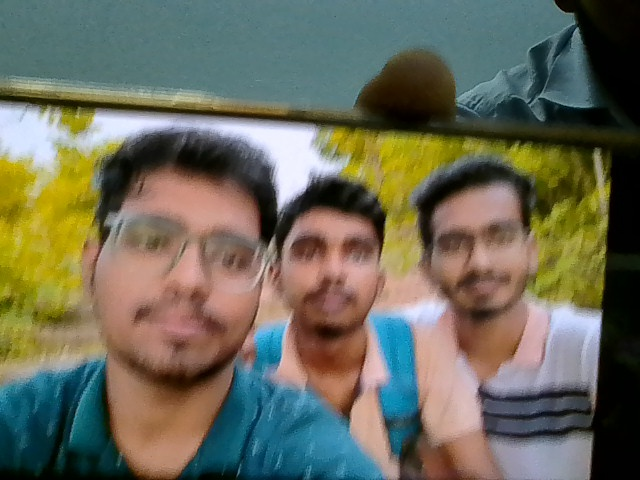real: (76, 102, 288, 402), (271, 177, 385, 338)
